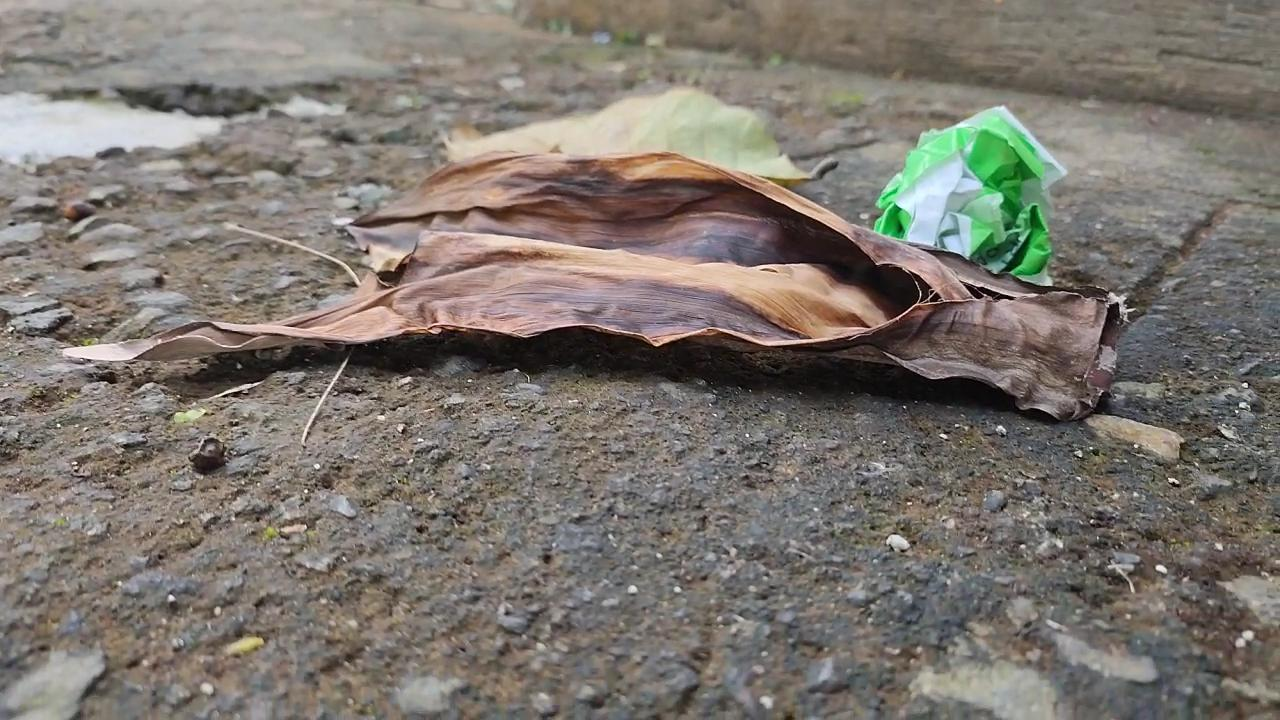Paper: (875, 98, 1084, 311)
